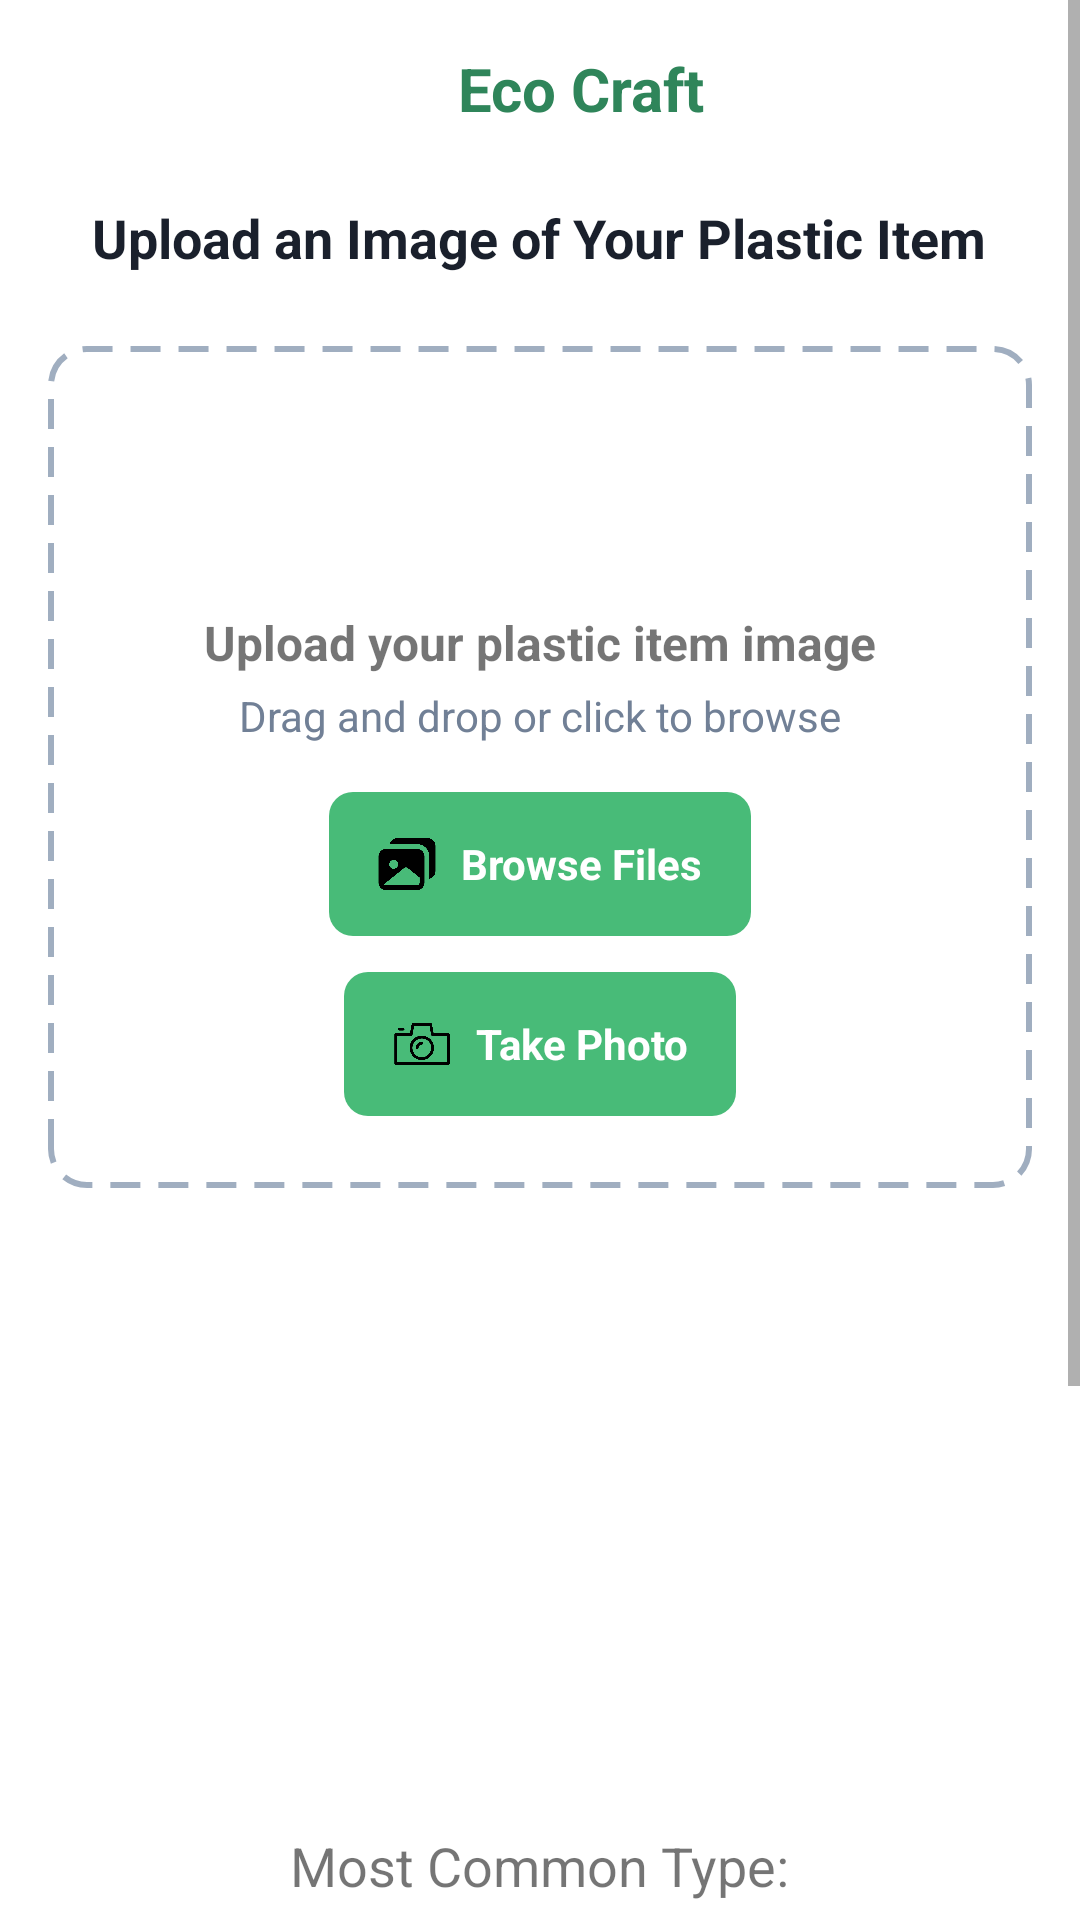

Screen size 1080×1920. Icon name, then its center in pixels as (x=x, y=y):
Camera Icon: (x=422, y=1044)
